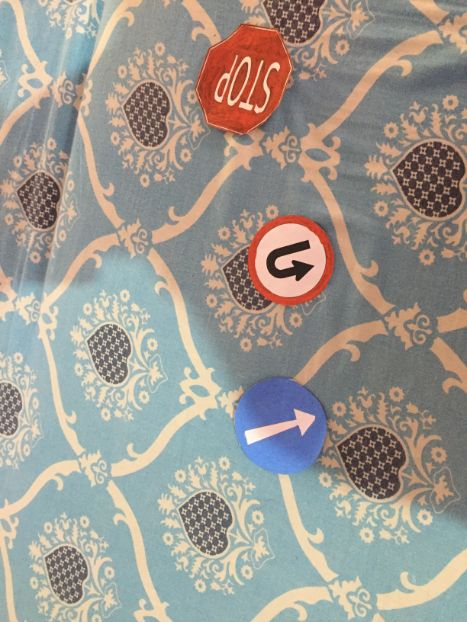keep-left: (234, 379, 326, 471)
stop: (196, 24, 296, 124)
u-turn: (247, 216, 333, 302)
